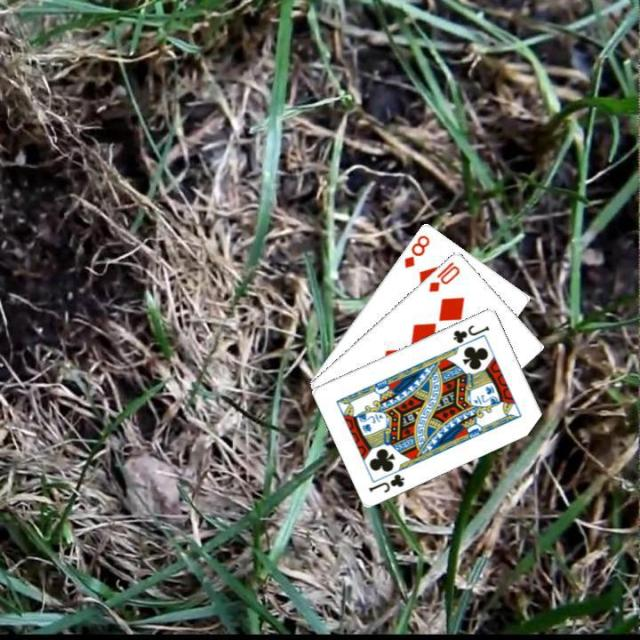10D: (425, 258, 461, 293)
8D: (400, 230, 431, 270)
JC: (449, 320, 491, 345), (364, 470, 406, 494)
